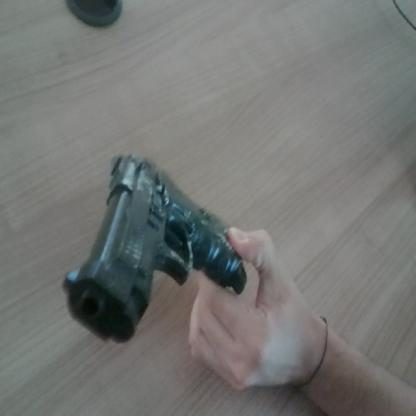handgun: (62, 142, 239, 348)
